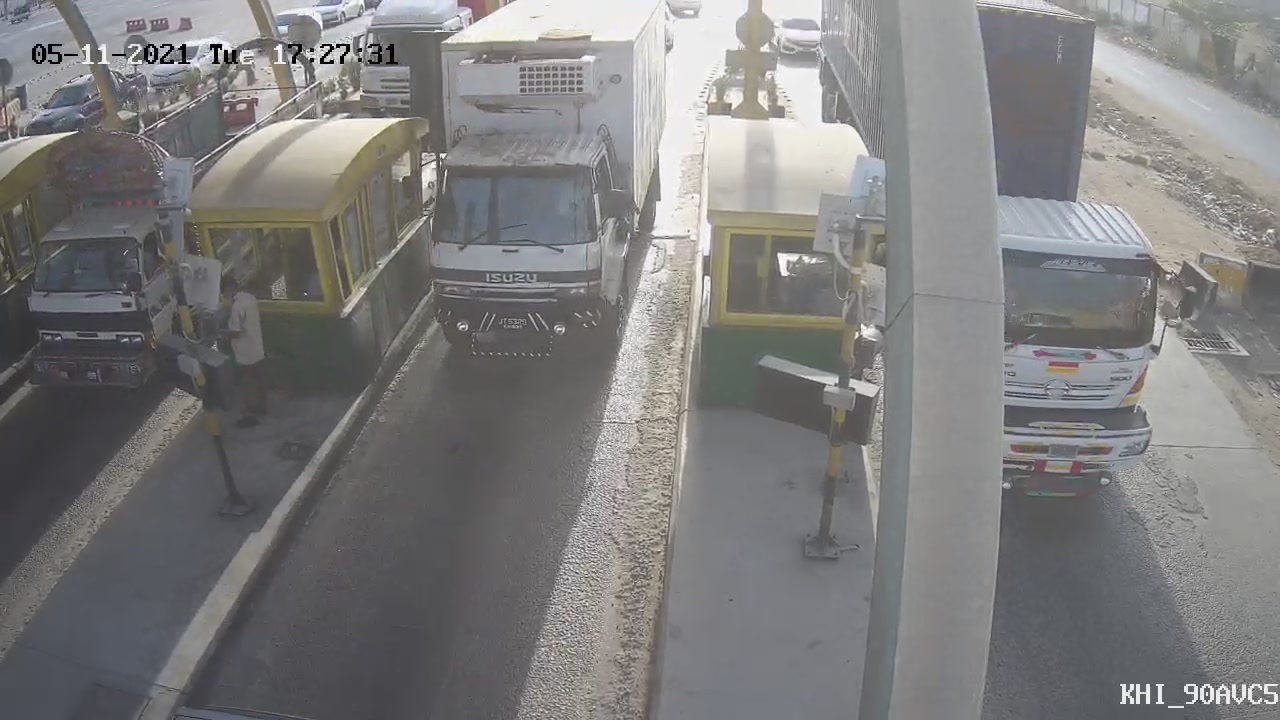F5: (377, 4, 706, 378)
